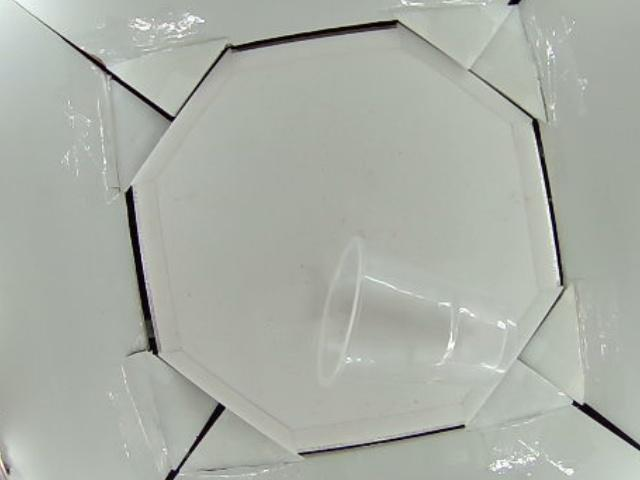Cup: (317, 235, 521, 388)
